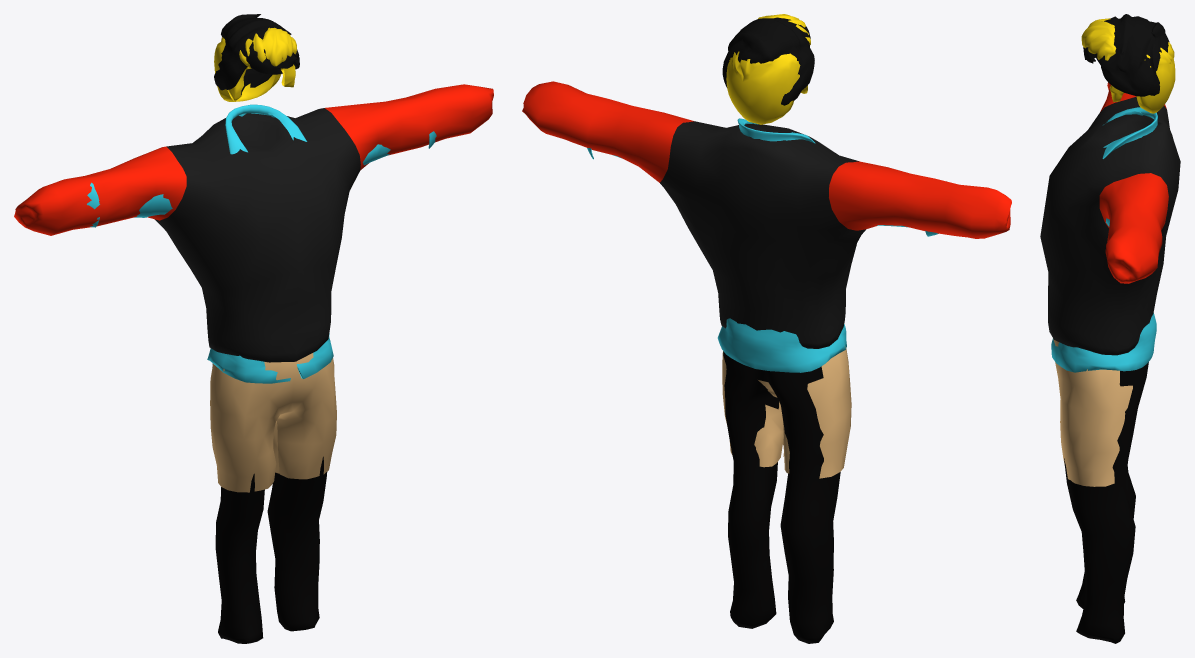
The model's file is Kıyafetler Man.FBX.
3 views of the same model, side by side, from view 1: azimuth 30°, elevation 25°; view 2: azimuth 150°, elevation 25°; view 3: azimuth 270°, elevation 25° (orthographic). The views are drawn at different scales.
Parts seen in each view (by area): view 1: Top, Kot, Bottom, Shirt, Hair, Hair_2; view 2: Top, Kot, Bottom, Shirt, Hair_2, Hair; view 3: Top, Kot, Bottom, Hair, Shirt, Hair_2.
Boxes of the visible parts, bbox=[...] form: Top: bbox=[14, 84, 493, 362]; Kot: bbox=[212, 363, 327, 643]; Bottom: bbox=[210, 353, 336, 492]; Shirt: bbox=[87, 104, 436, 383]; Hair: bbox=[214, 14, 299, 95]; Hair_2: bbox=[214, 27, 296, 101]; Top: bbox=[522, 81, 1011, 348]; Kot: bbox=[723, 351, 840, 643]; Bottom: bbox=[722, 346, 851, 478]; Shirt: bbox=[587, 118, 946, 372]; Hair_2: bbox=[726, 14, 810, 124]; Hair: bbox=[722, 17, 814, 105]; Top: bbox=[1040, 82, 1180, 355]; Kot: bbox=[1064, 362, 1148, 643]; Bottom: bbox=[1053, 339, 1132, 486]; Hair: bbox=[1083, 14, 1169, 96]; Shirt: bbox=[1051, 107, 1157, 372]; Hair_2: bbox=[1081, 18, 1175, 113].
Size of the model in its own units: 48.81 by 59.57 by 12.49.
